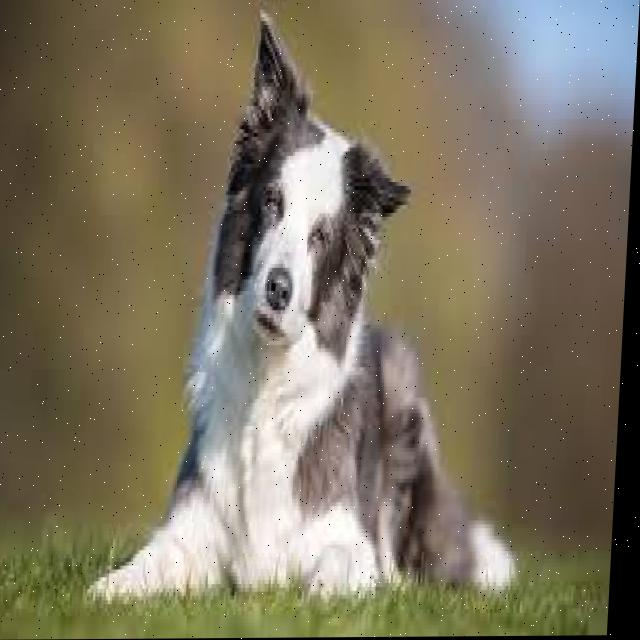BORDER_COLLIE: (102, 0, 549, 610)
